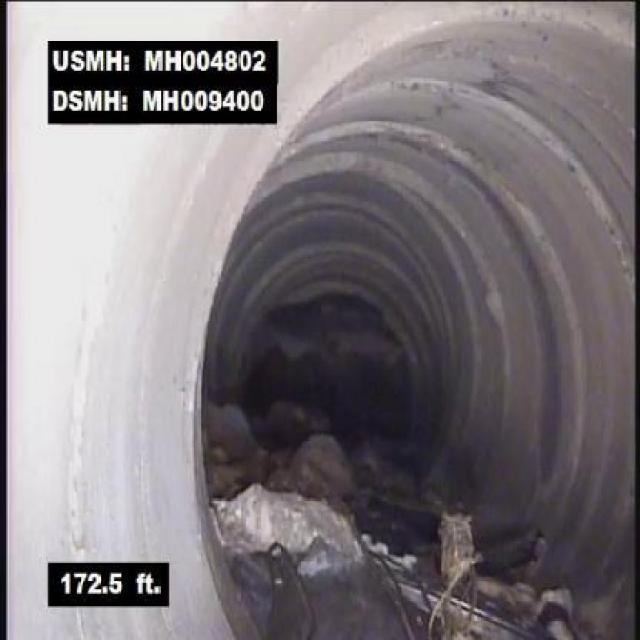Obstacle: (202, 477, 488, 638)
